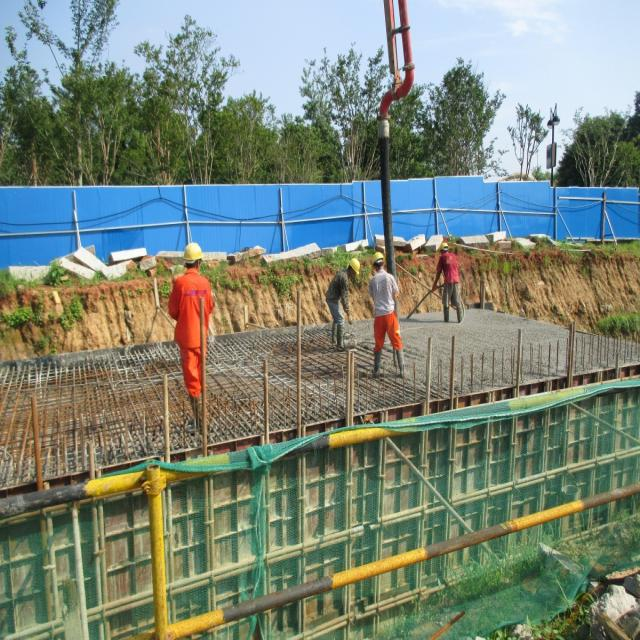truck: (376, 0, 415, 282)
